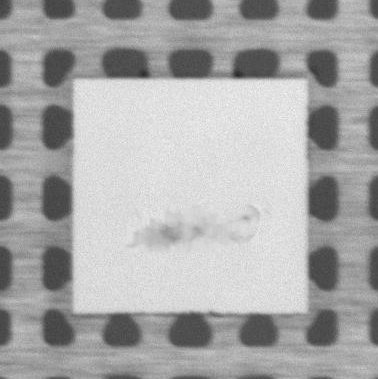DIE_INK: (121, 203, 263, 245)
